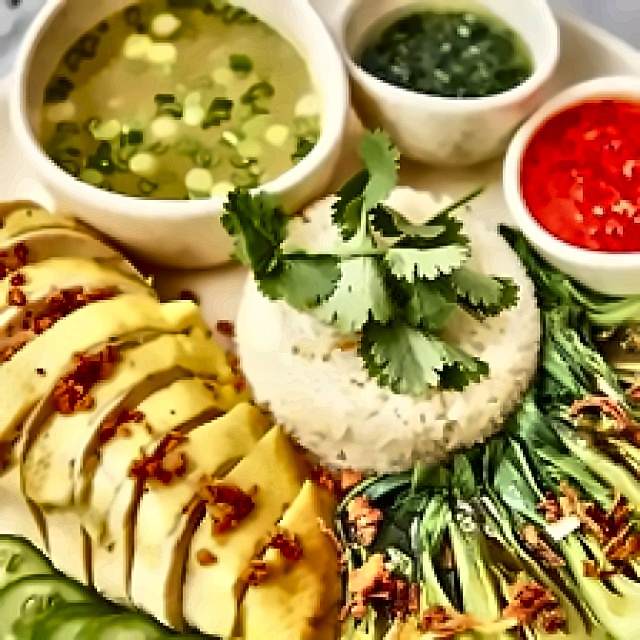cucumber_slice: (0, 537, 158, 640)
rice: (236, 182, 538, 476)
